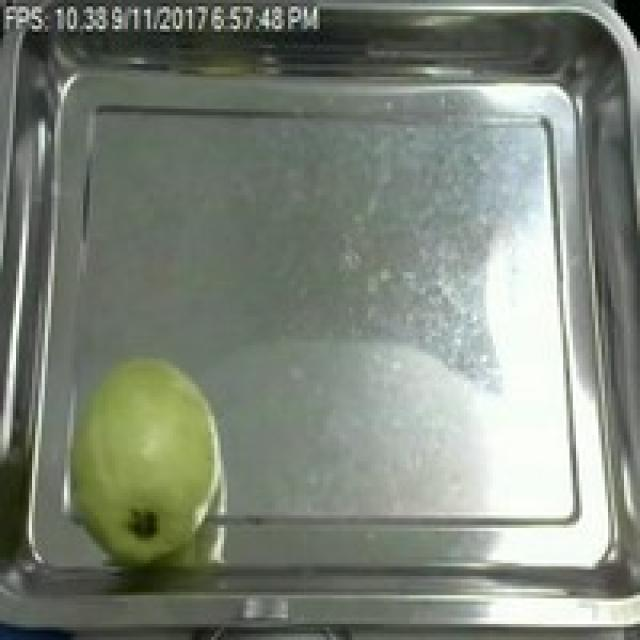Fruit: (45, 339, 240, 576)
